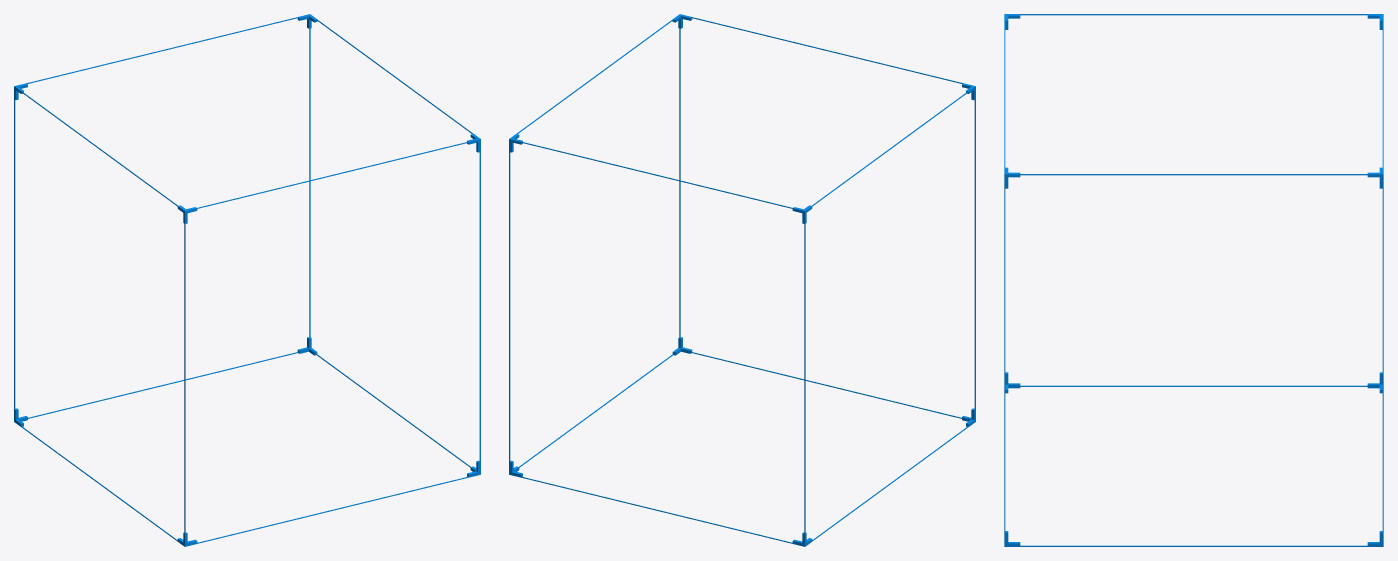
Rendered from ASTROFISH_Block_UI.FBX.
3 views of the same model, side by side, from view 1: azimuth 30°, elevation 25°; view 2: azimuth 150°, elevation 25°; view 3: azimuth 270°, elevation 25° (orthographic). The views are drawn at different scales.
Parts seen in each view (by area): view 1: ASTROFISH_Block_UI; view 2: ASTROFISH_Block_UI; view 3: ASTROFISH_Block_UI.
Part boxes in pixels (x1,y1,x2,y2): ASTROFISH_Block_UI: [14, 14, 480, 546]; ASTROFISH_Block_UI: [509, 14, 975, 546]; ASTROFISH_Block_UI: [1004, 14, 1383, 546].
Size of the model in its own units: 6 by 6.5 by 5.99.
